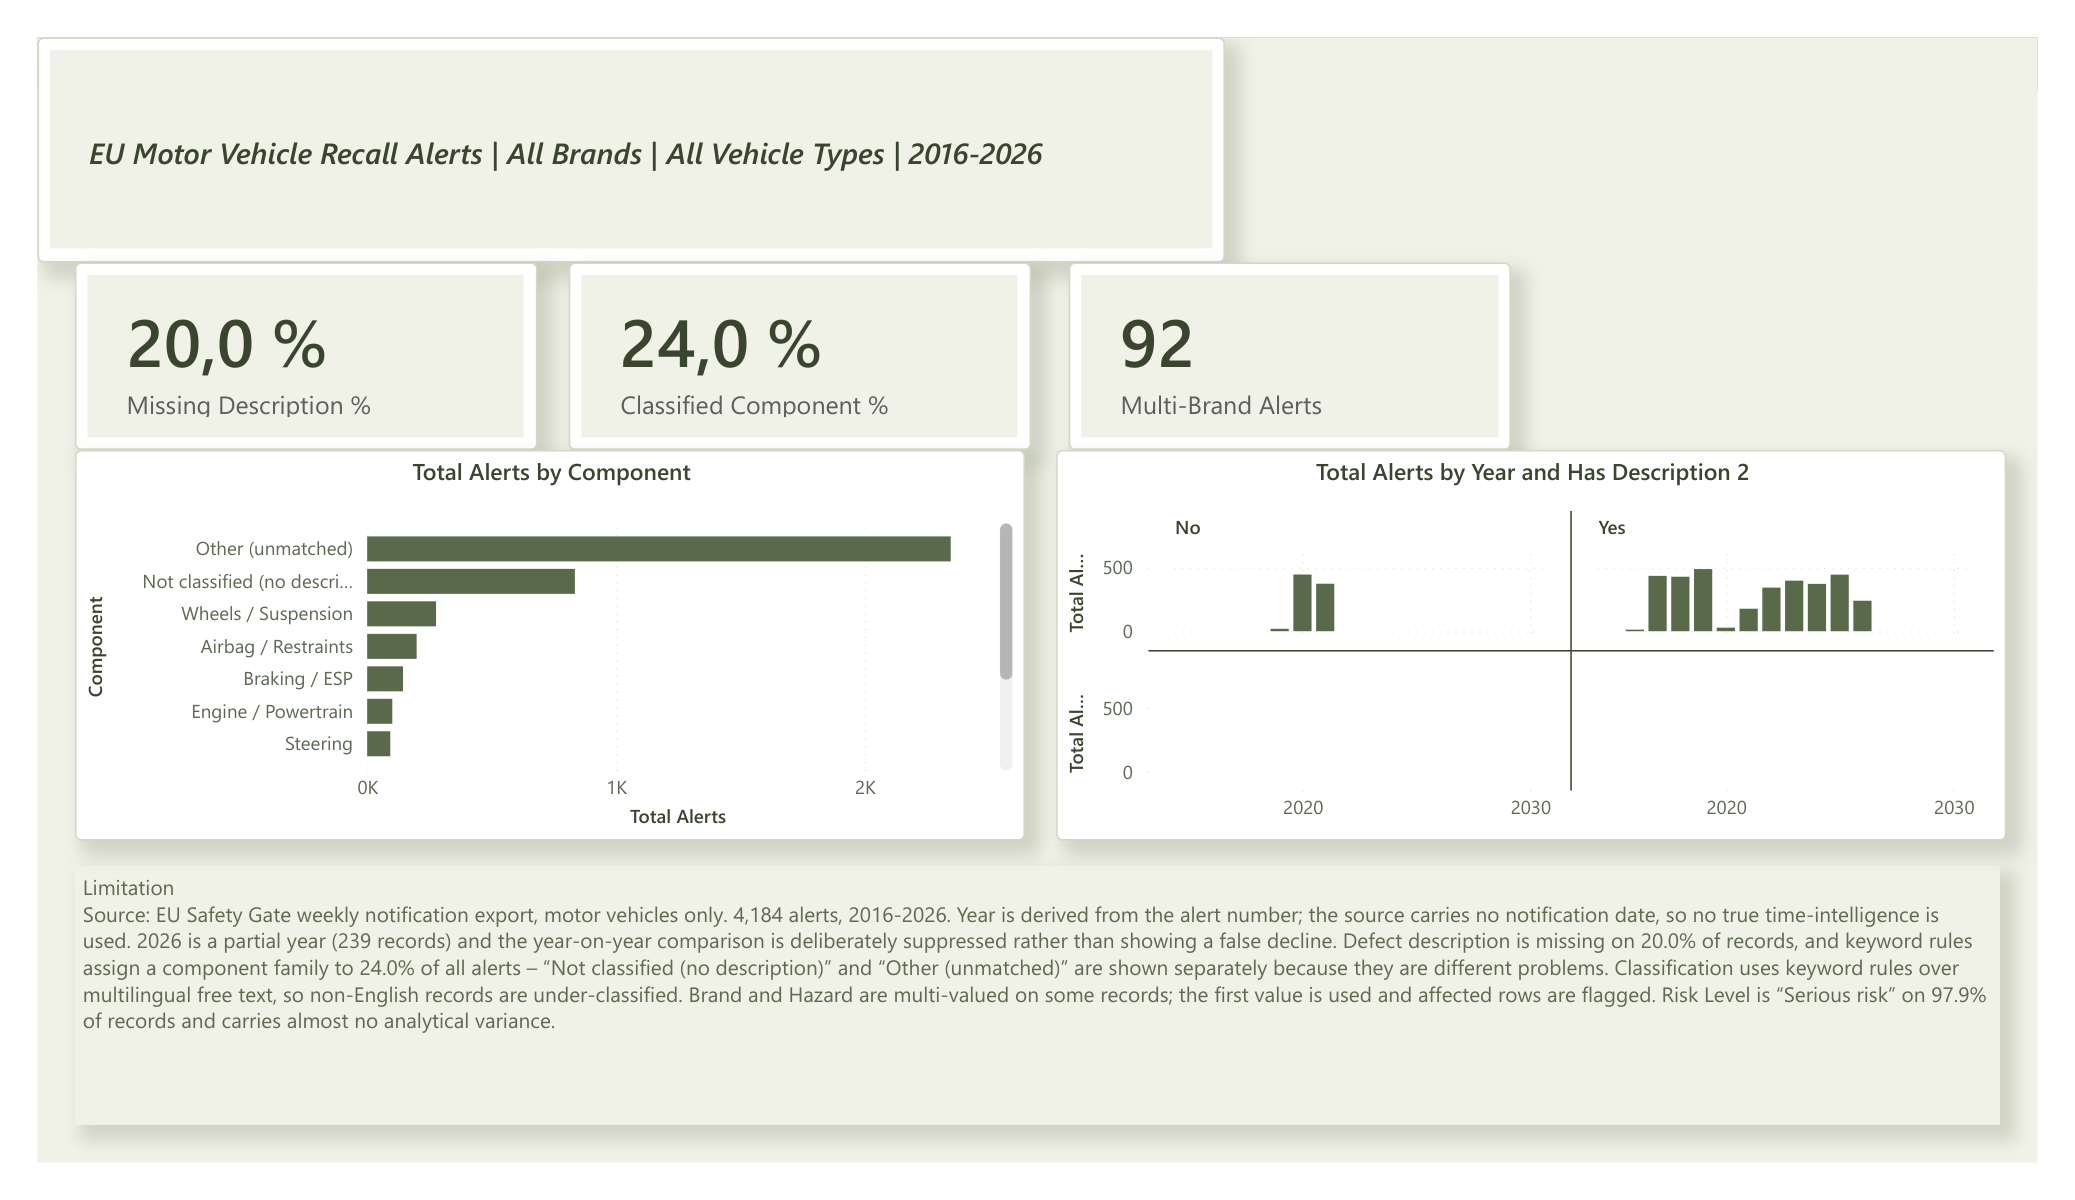

Layout of this report page (visuals, bound fields, positions):
{"tool":"powerbi","page":{"name":"Data Quality","canvas":[1280,720],"ordinal":3},"visuals":[{"type":"cardVisual","fields":{"Data":["_Measures.Dynamic Title"]},"box":[0,0,760.1,143.6],"z":0},{"type":"cardVisual","fields":{"Data":["_Measures.Missing Description %"]},"box":[24.1,143.6,295.6,120.6],"z":1000},{"type":"cardVisual","fields":{"Data":["_Measures.Classified Component %"]},"box":[340.2,143.6,295.6,120.6],"z":2000},{"type":"cardVisual","fields":{"Data":["_Measures.Multi-Brand Alerts"]},"box":[659.9,143.6,283.5,120.6],"z":3000},{"type":"barChart","fields":{"Category":["Recall.Component"],"Y":["_Measures.Total Alerts"]},"box":[24,264,608,250],"z":4000},{"type":"columnChart","fields":{"Category":["DimYear.Year"],"Y":["_Measures.Total Alerts"],"Rows":["Recall.Has Description 2"]},"box":[652,264,608,250],"z":5000},{"type":"textbox","box":[24,530,1232,166],"z":6000}]}

Visuals, with their boxes on the page's 1280x720 design canvas (x1, y1, x2, y2). These are canvas units, not pixel positions in the 2075x1200 screenshot, which may show the page scaled, cropped or inside an application window:
cardVisual - _Measures.Dynamic Title: [0, 0, 760, 144]
cardVisual - _Measures.Missing Description %: [24, 144, 320, 264]
cardVisual - _Measures.Classified Component %: [340, 144, 636, 264]
cardVisual - _Measures.Multi-Brand Alerts: [660, 144, 943, 264]
barChart - Recall.Component x _Measures.Total Alerts: [24, 264, 632, 514]
columnChart - DimYear.Year x _Measures.Total Alerts: [652, 264, 1260, 514]
textbox: [24, 530, 1256, 696]
